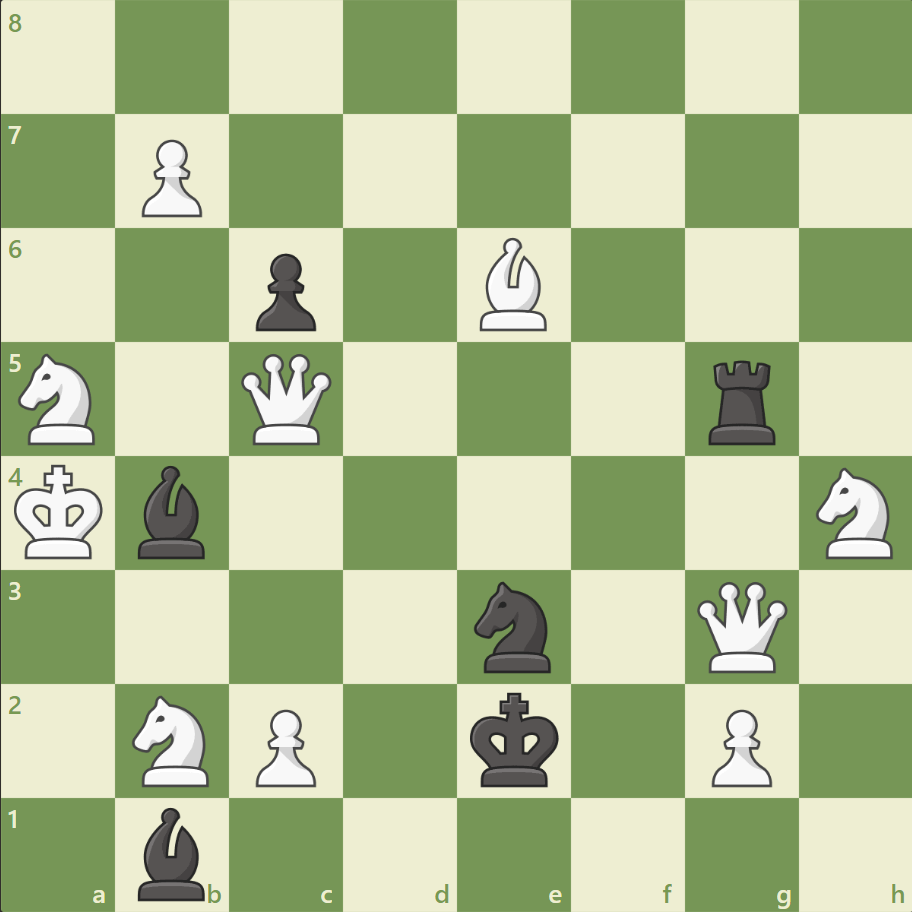B: (471, 233, 555, 336)
K: (11, 458, 111, 566)
N: (124, 688, 222, 791), (806, 461, 903, 564), (11, 348, 108, 450)
P: (133, 132, 208, 223), (247, 700, 322, 791), (701, 700, 776, 791)
Q: (237, 349, 336, 449), (691, 576, 790, 676)
b: (131, 460, 215, 563), (131, 801, 215, 904)
k: (465, 685, 565, 793)
n: (465, 575, 562, 677)
p: (247, 246, 322, 337)
r: (700, 352, 783, 449)
